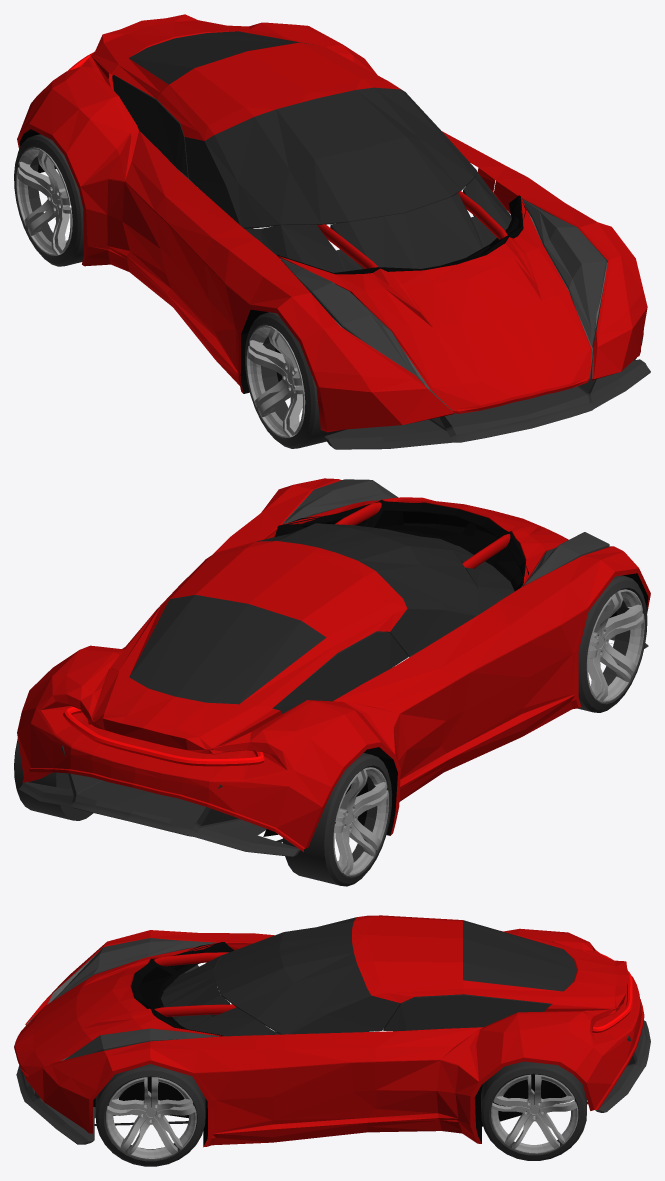
Rendered from laferra.glb.
3 renders of one model, top to bottom at view 1: azimuth 30°, elevation 25°; view 2: azimuth 150°, elevation 25°; view 3: azimuth 270°, elevation 25°, orthographic. The views are drawn at different scales.
Visible parts, largest first — view 1: Tube01, Box02, Plane012, Plane11, Box31, Tube003, Tube002, Loft03, Loft04; view 2: Tube01, Box39, Tube002, Plane012, Plane11, Box38, Tube003, Line014, Tube004, Loft03; view 3: Tube01, Plane013, Plane014, Tube005, Tube004, Box31, Box38, Loft04, Loft03, Line014.
Part boxes in pixels (<box>): Tube01: <box>17,14,647,432</box>; Box02: <box>325,403,532,449</box>; Plane012: <box>246,325,305,437</box>; Plane11: <box>16,147,72,255</box>; Box31: <box>510,359,650,428</box>; Tube003: <box>245,312,346,448</box>; Tube002: <box>14,134,83,266</box>; Loft03: <box>317,224,378,268</box>; Loft04: <box>455,191,507,239</box>; Tube01: <box>17,478,650,851</box>; Box39: <box>128,784,299,856</box>; Tube002: <box>283,753,392,886</box>; Plane012: <box>586,589,644,702</box>; Plane11: <box>333,767,388,876</box>; Box38: <box>19,746,168,820</box>; Tube003: <box>577,575,647,712</box>; Line014: <box>63,706,264,766</box>; Tube004: <box>14,738,93,820</box>; Loft03: <box>462,534,510,568</box>; Tube01: <box>14,915,644,1147</box>; Plane013: <box>106,1077,196,1159</box>; Plane014: <box>491,1074,578,1153</box>; Tube005: <box>95,1064,205,1166</box>; Tube004: <box>481,1061,586,1160</box>; Box31: <box>16,1071,188,1144</box>; Box38: <box>542,1036,650,1112</box>; Loft04: <box>151,1004,236,1016</box>; Loft03: <box>154,952,228,966</box>; Line014: <box>592,953,633,1032</box>.
Size of the model in its own units: 60.44 by 35.72 by 123.
